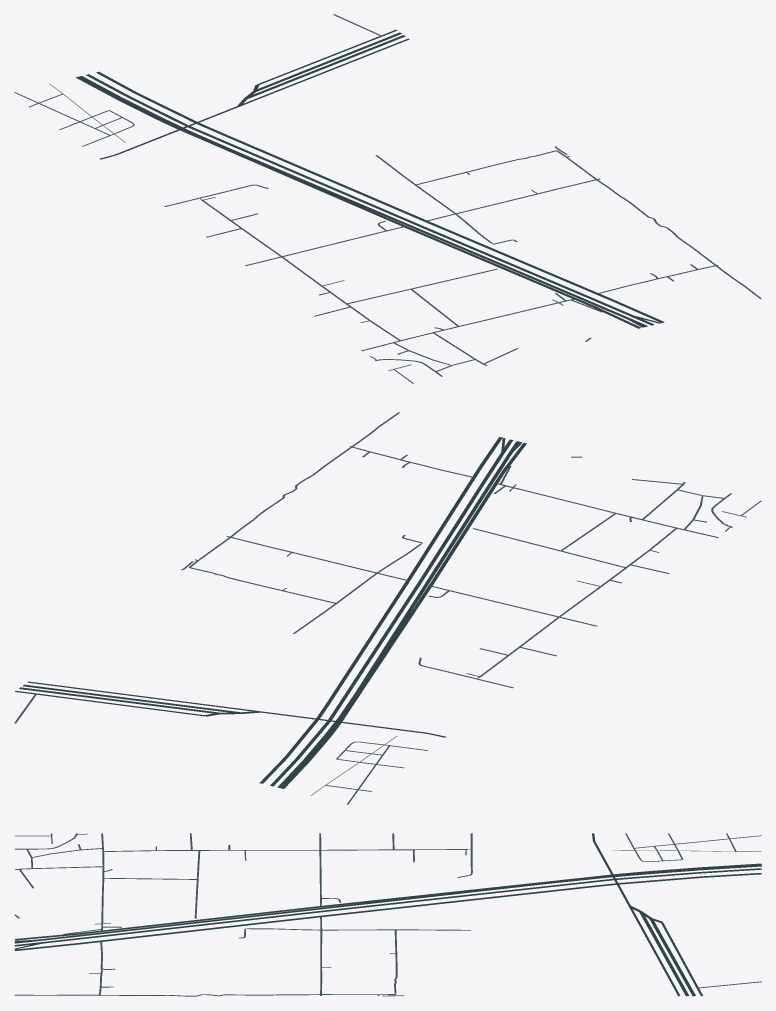
The picture shows the model from 3 angles, top to bottom: view 1: azimuth 30°, elevation 25°; view 2: azimuth 150°, elevation 25°; view 3: azimuth 270°, elevation 25°; orthographic projection. The views are drawn at different scales.
Parts seen in each view (by area): view 1: major, street; view 2: major, street; view 3: major, street.
Part boxes in pixels (x1,y1,x2,y2): major: (76, 29, 664, 328); street: (14, 14, 761, 383); major: (15, 437, 526, 788); street: (14, 412, 761, 804); major: (14, 833, 761, 996); street: (14, 833, 761, 996).
Size of the model in its own units: 1033 by 0.22 by 2003.
